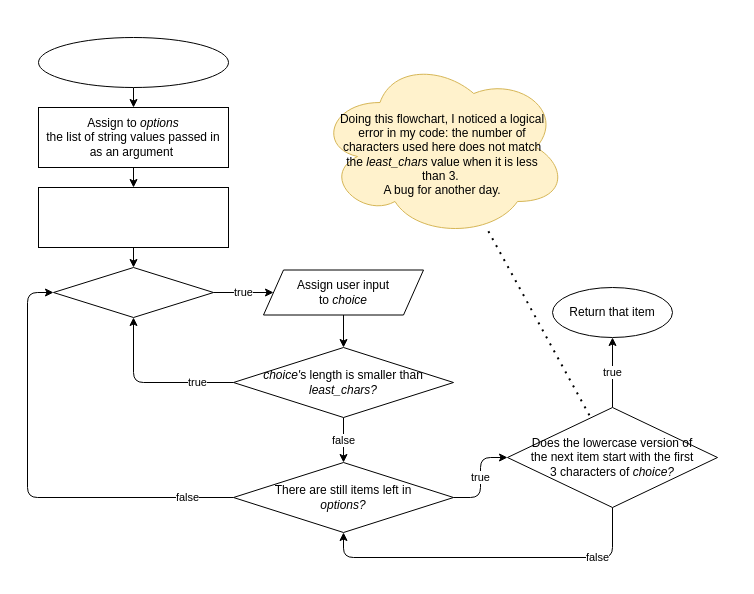
The diagram is 754 pixels wide and 594 high, and some of its shapes have lost their labels. The shapes that lost their labels are listed below. From the top down, each one's centre as x and y in pixels, then its label:
(x=133, y=62): get_valid_option
(x=133, y=217): Assign the length of the shortest string in options to least_chars
(x=133, y=292): Always True
